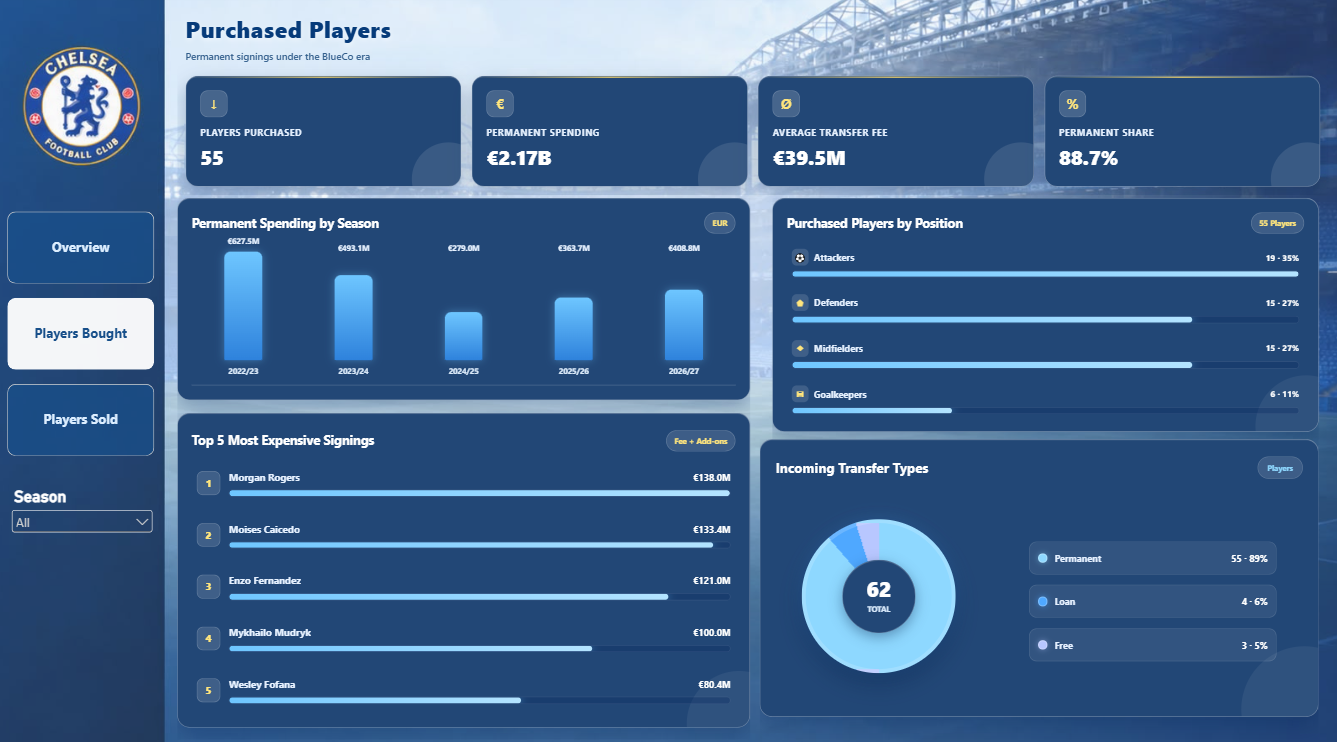

This screenshot's page, from the dashboard's own definition file:
{"tool":"powerbi","page":{"name":"Players Bought","canvas":[1920,1080],"ordinal":1},"visuals":[{"type":"pageNavigator","box":[16.1,310.7,210,350],"z":0},{"type":"htmlContent443BE3AD55E043BF878BED274D3A6855","fields":{"content":["Measures (2).Purchased Players Cards HTML"]},"box":[242.9,0,1676.8,348.2],"z":1},{"type":"htmlContent443BE3AD55E043BF878BED274D3A6855","fields":{"content":["Measures (2).Purchased Spending by Season HTML"]},"box":[243.7,276.7,850.8,429.5],"z":2},{"type":"htmlContent443BE3AD55E043BF878BED274D3A6855","fields":{"content":["Measures (2).Purchased Players by Position HTML"]},"box":[1092.9,276.8,812.5,383.9],"z":3},{"type":"htmlContent443BE3AD55E043BF878BED274D3A6855","fields":{"content":["Measures (2).Top 5 Purchased Players HTML"]},"box":[242.9,583.9,850,496.4],"z":4},{"type":"htmlContent443BE3AD55E043BF878BED274D3A6855","fields":{"content":["Measures (2).Incoming Transfer Types Pie HTML"]},"box":[1075,621.4,830.4,458.9],"z":5},{"type":"slicer","title":"اا","fields":{"Values":["TransfersTable.Season"]},"box":[17.9,703.6,210.7,94.6],"z":6}]}

Visuals, with their boxes in screenshot pixels (x1, y1, x2, y2), scaled from the page's 1920x1080 canvas onto the 1337x742 screenshot:
pageNavigator: {"left": 11, "top": 213, "right": 157, "bottom": 454}
htmlContent443BE3AD55E043BF878BED274D3A6855 - Measures (2).Purchased Players Cards HTML: {"left": 169, "top": 0, "right": 1336, "bottom": 239}
htmlContent443BE3AD55E043BF878BED274D3A6855 - Measures (2).Purchased Spending by Season HTML: {"left": 170, "top": 190, "right": 762, "bottom": 485}
htmlContent443BE3AD55E043BF878BED274D3A6855 - Measures (2).Purchased Players by Position HTML: {"left": 761, "top": 190, "right": 1327, "bottom": 454}
htmlContent443BE3AD55E043BF878BED274D3A6855 - Measures (2).Top 5 Purchased Players HTML: {"left": 169, "top": 401, "right": 761, "bottom": 741}
htmlContent443BE3AD55E043BF878BED274D3A6855 - Measures (2).Incoming Transfer Types Pie HTML: {"left": 749, "top": 427, "right": 1327, "bottom": 741}
"اا" slicer: {"left": 12, "top": 483, "right": 159, "bottom": 548}
